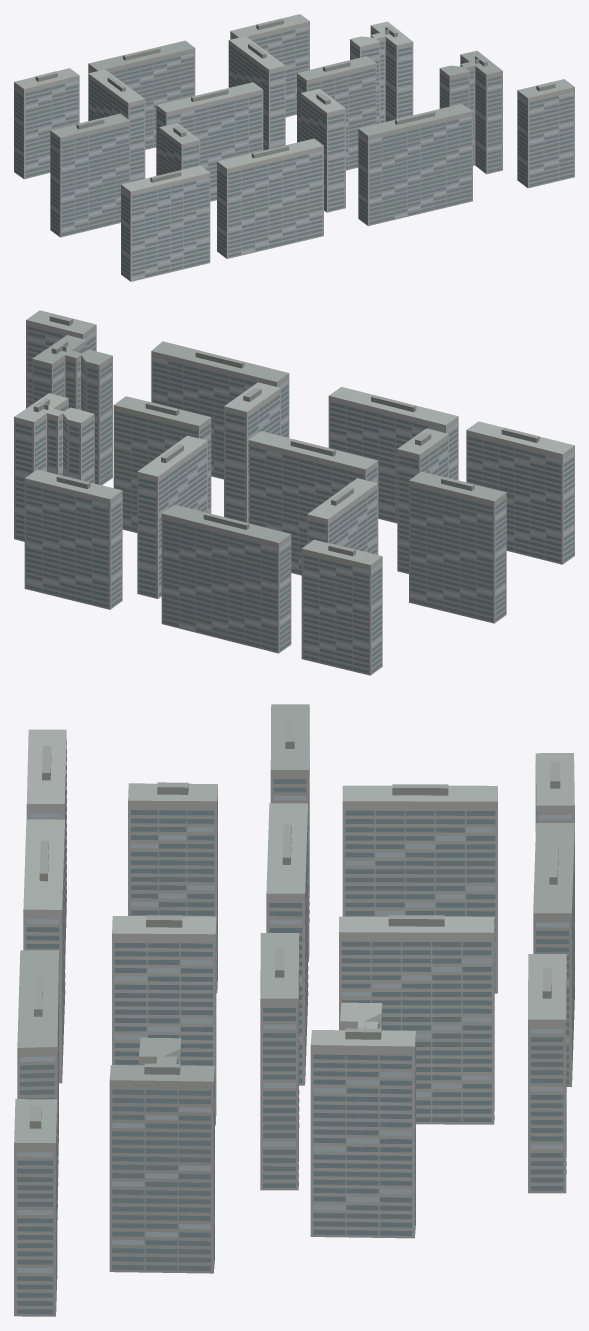
The model's file is apt-a13202002.glb.
The picture shows the model from 3 angles, top to bottom: view 1: azimuth 30°, elevation 25°; view 2: azimuth 150°, elevation 25°; view 3: azimuth 270°, elevation 25°; orthographic projection. The views are drawn at different scales.
Parts seen in each view (by area): view 1: apt-a13202002; view 2: apt-a13202002; view 3: apt-a13202002.
Part boxes in pixels (x1,y1,x2,y2): apt-a13202002: [14, 14, 574, 281]; apt-a13202002: [14, 310, 574, 675]; apt-a13202002: [14, 704, 574, 1316].
Size of the model in its own units: 294 by 65 by 166.
